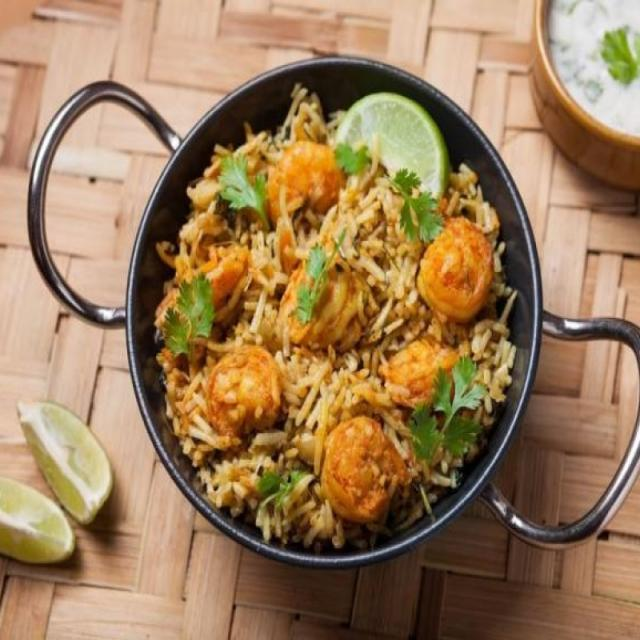Biryani: (144, 79, 518, 558)
